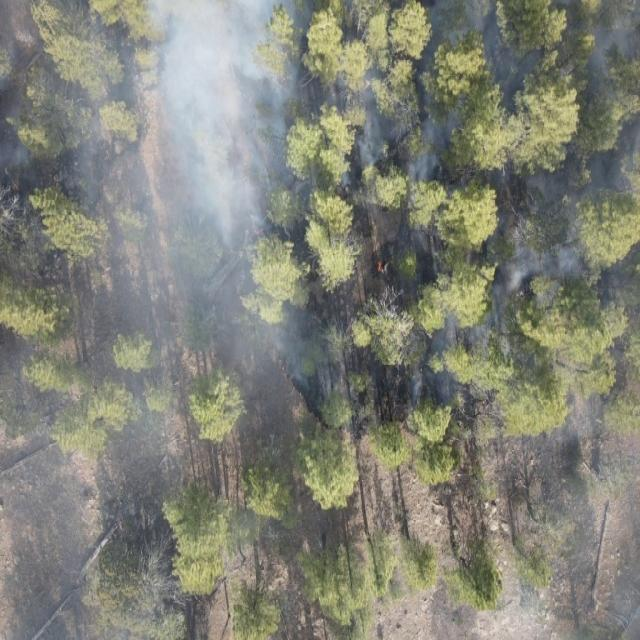fire: (250, 222, 268, 238), (374, 257, 384, 274)
smoke: (0, 0, 330, 639), (330, 0, 640, 224), (490, 224, 640, 638), (410, 314, 514, 418)
